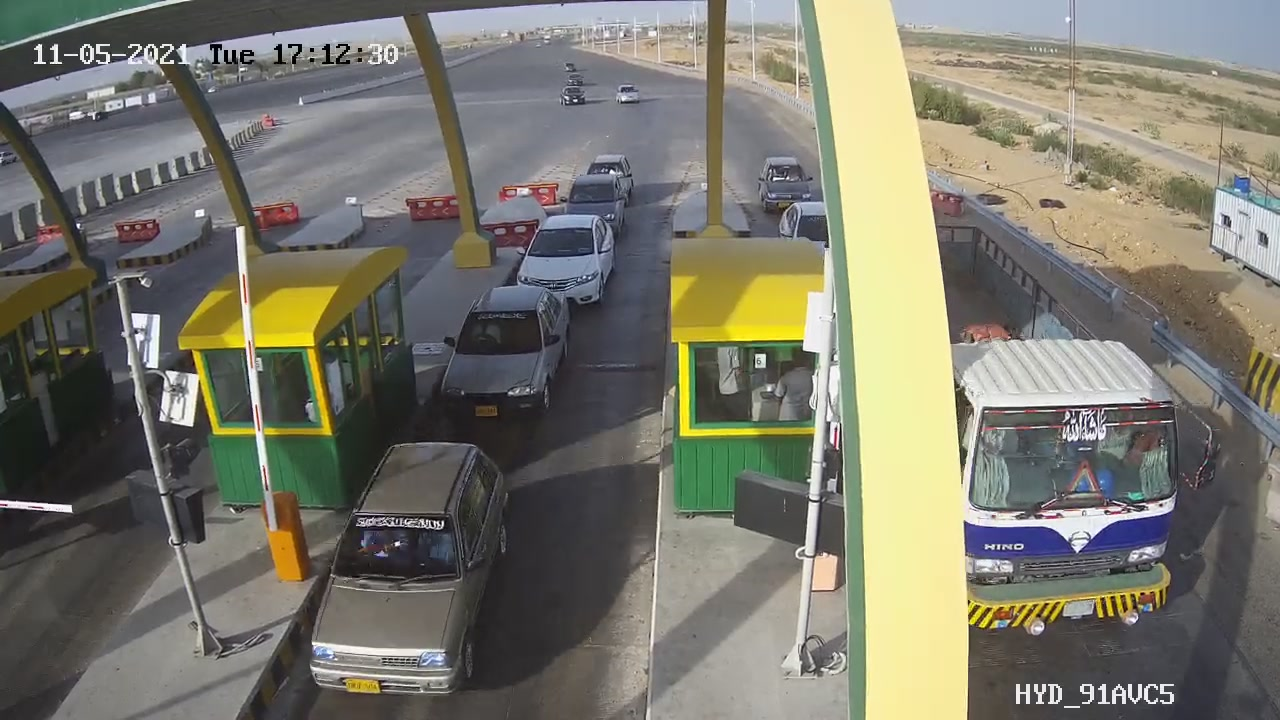F1: (430, 274, 581, 434), (505, 199, 630, 329)
